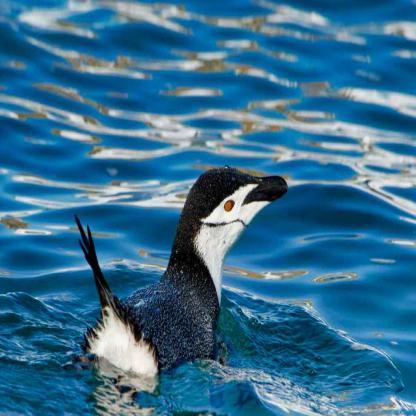Penguin: (74, 157, 294, 383)
